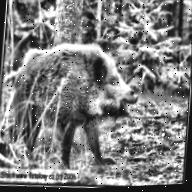boar: (12, 11, 175, 173)
